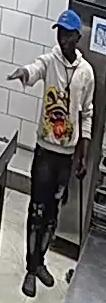no_apron: (34, 23, 94, 156)
